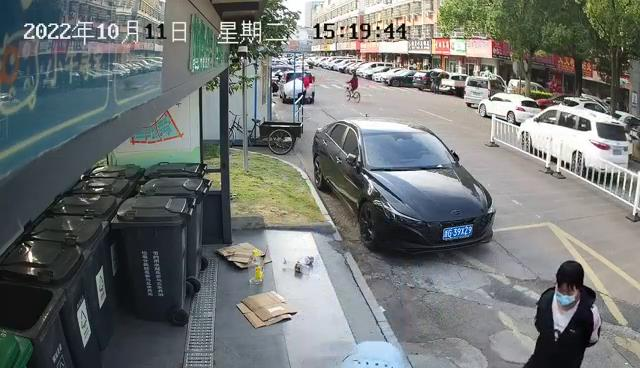person: (522, 259, 602, 368)
suliaozhipin: (280, 254, 314, 275), (247, 248, 265, 285)
zhizhipin: (235, 289, 299, 329), (215, 240, 273, 270)
